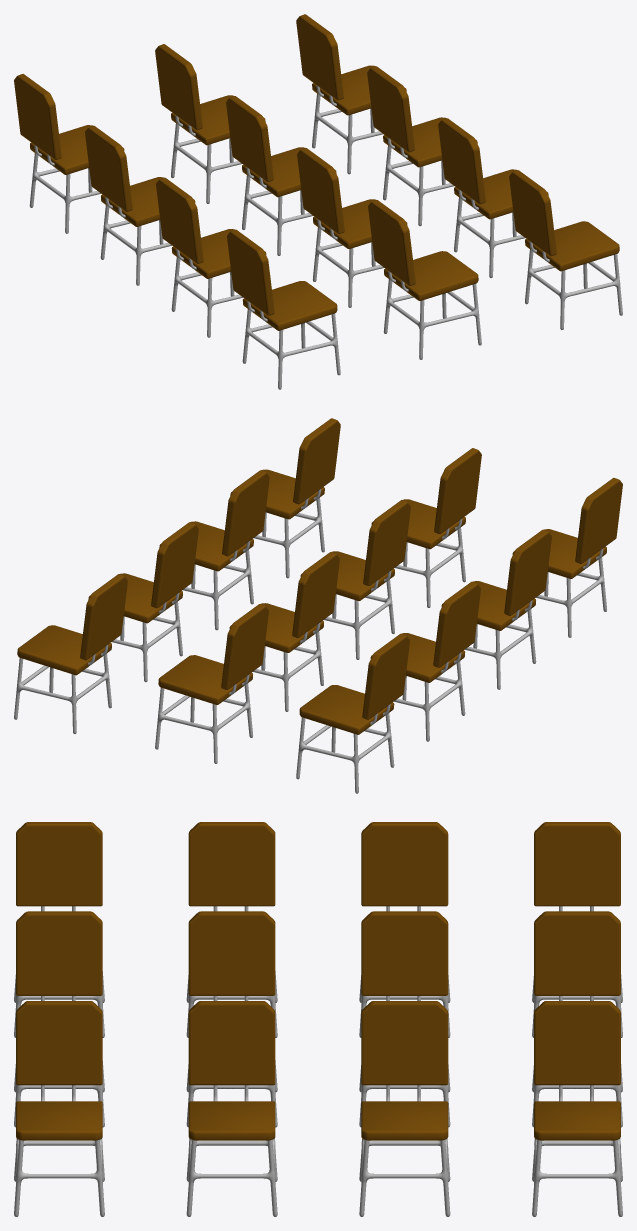
File: Chairs.fbx
The picture shows the model from 3 angles, top to bottom: view 1: azimuth 30°, elevation 25°; view 2: azimuth 150°, elevation 25°; view 3: azimuth 270°, elevation 25°; orthographic projection. The views are drawn at different scales.
Visible parts, largest first — view 1: Joined Chair.001; view 2: Joined Chair.001; view 3: Joined Chair.001.
Part boxes in pixels (bbox=[...]): Joined Chair.001: bbox=[14, 14, 622, 389]; Joined Chair.001: bbox=[14, 418, 622, 793]; Joined Chair.001: bbox=[14, 822, 622, 1216].
Bounding box in the file's own units: 1035 × 410 × 1240.
